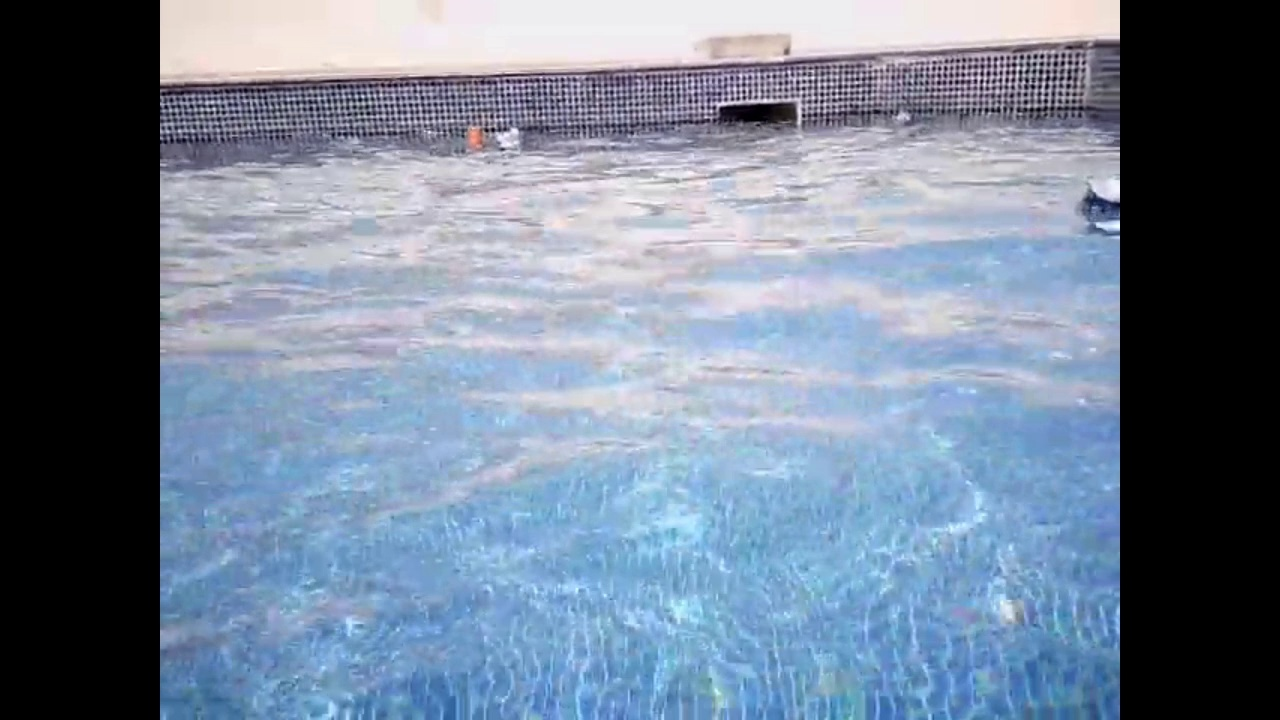debris: (1072, 175, 1118, 239), (492, 123, 523, 151), (462, 122, 486, 155)
